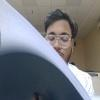notebook: (0, 0, 97, 99)
